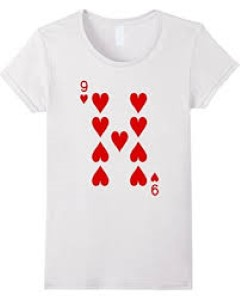NineOfHearts: (68, 72, 172, 207)
